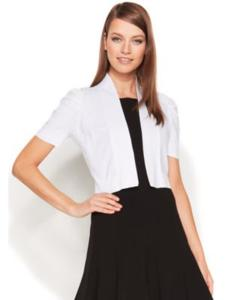C_cardigan sweater: (36, 76, 202, 207)
